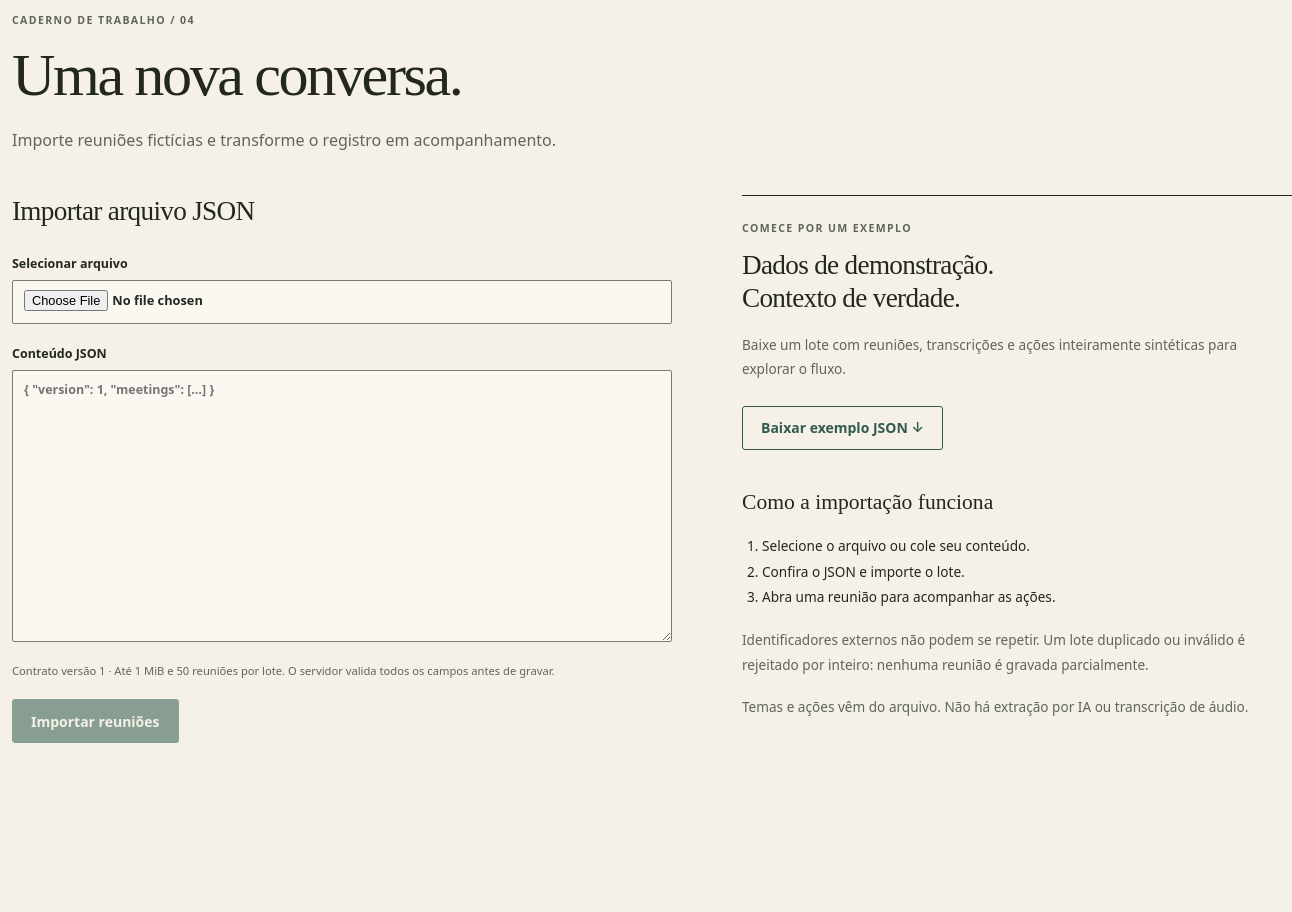
formulários e navegação › rejeita JSON inválido antes da requisição e associa erro ao campo
The image size is (1292, 912).
Type "não é JSON" into the text box labelled "Conteúdo JSON" at (342, 506), box left=12, top=370, right=672, bottom=642
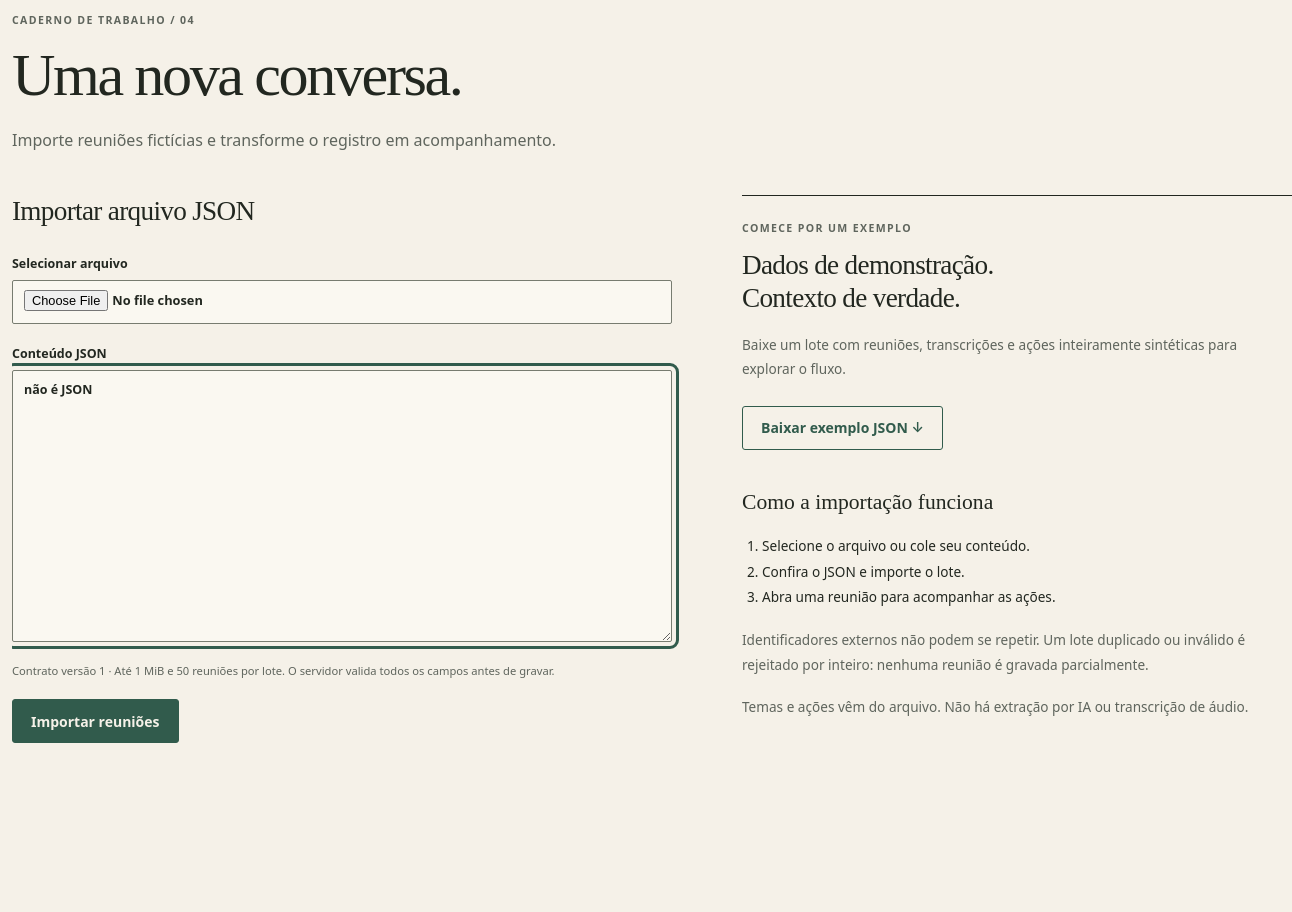
Click the button "Importar reuniões" at (95, 721), box left=12, top=699, right=178, bottom=743
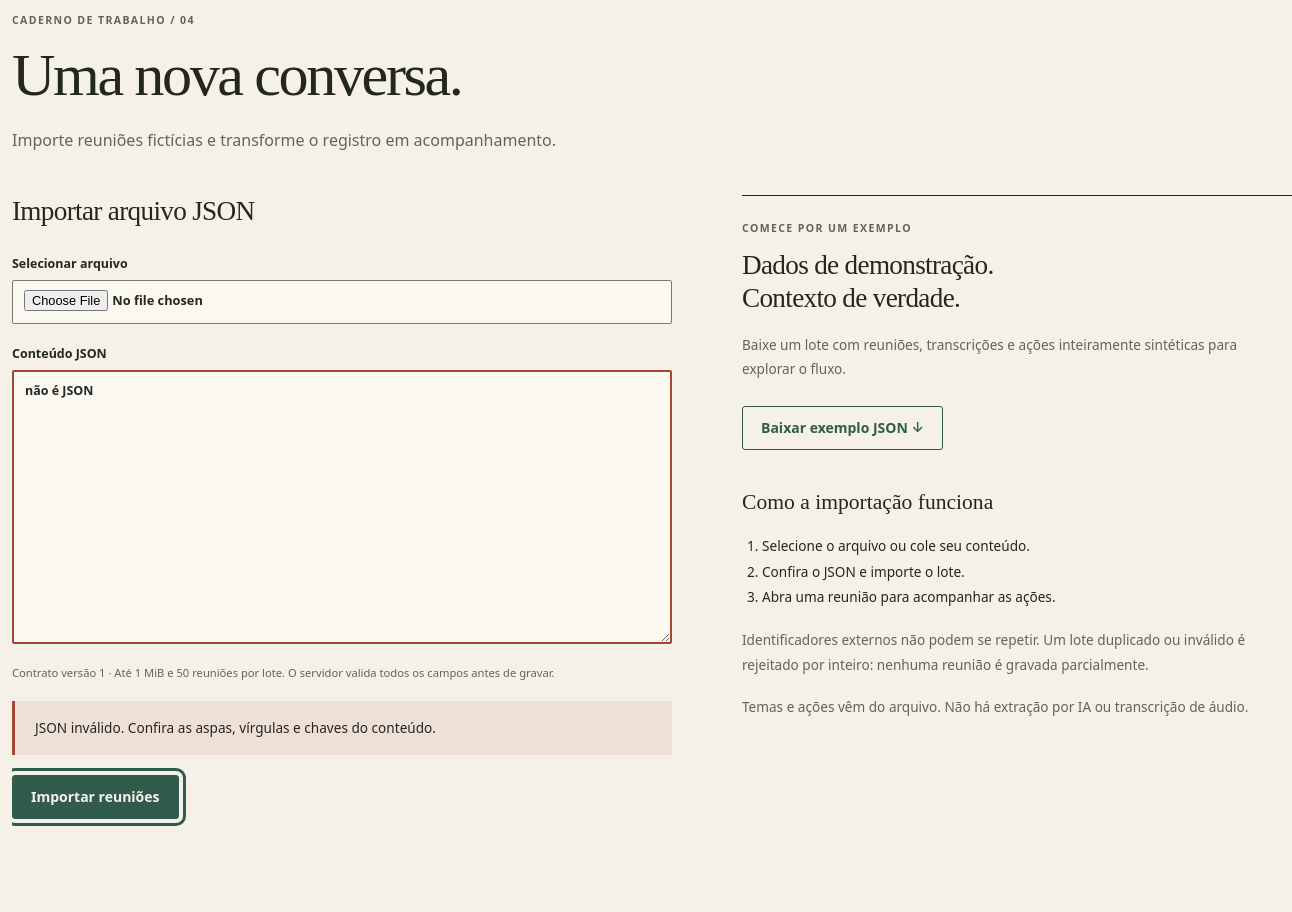
Result: the message shows "JSON inválido" at left=35, top=718, right=436, bottom=737
